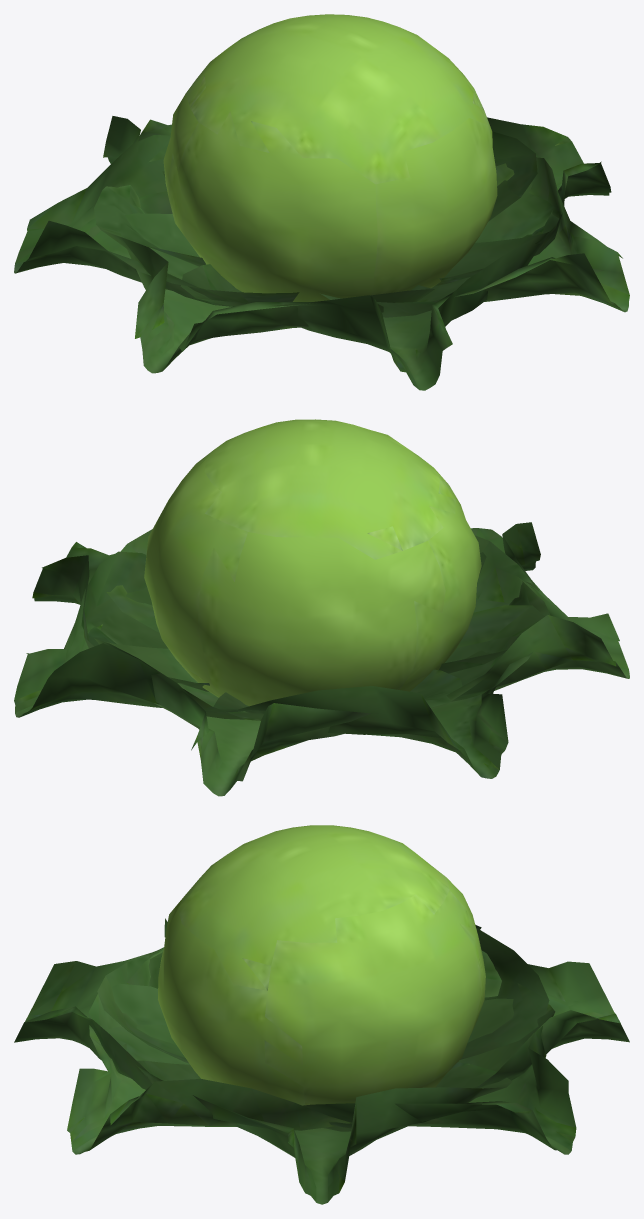
The model's file is crop_romanesco.glb.
The picture shows the model from 3 angles, top to bottom: view 1: azimuth 30°, elevation 25°; view 2: azimuth 150°, elevation 25°; view 3: azimuth 270°, elevation 25°; orthographic projection.
Parts seen in each view (by area): view 1: fruit, crop_romanesco; view 2: fruit, crop_romanesco; view 3: fruit, crop_romanesco.
Boxes of the visible parts, x1,y1,x2,y2 form: fruit: (163, 14, 497, 301); crop_romanesco: (14, 116, 629, 390); fruit: (144, 419, 481, 706); crop_romanesco: (14, 522, 629, 796); fruit: (158, 825, 485, 1105); crop_romanesco: (14, 918, 629, 1204).
Size of the model in its own units: 0.2748 by 0.135 by 0.2809.
Materials: 1 (1 with a texture image).
